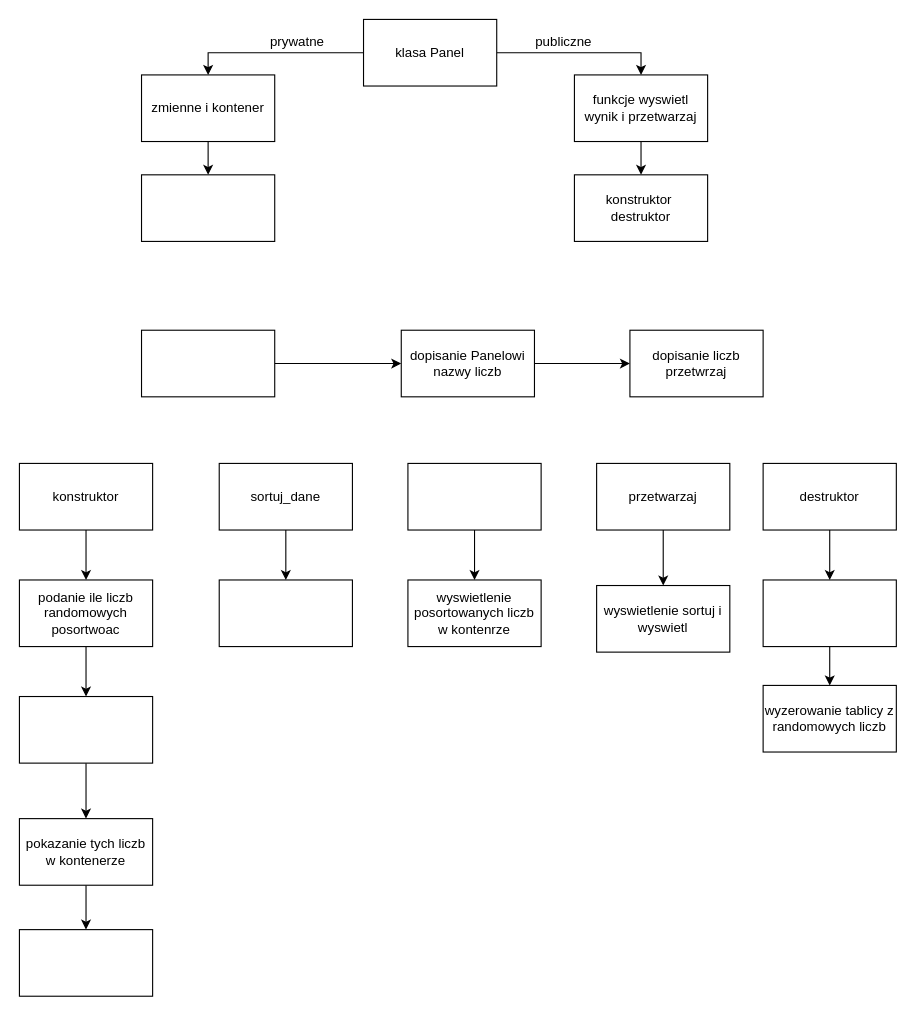
Some shapes in this 916 by 1016 pixel diagram are drawn without their labels. The shapes that lost their labels are listed below. From the top down, each one's centre as x and y in pixels, then its label:
At point 207,207: "funkcja sortujaca".
At point 207,363: "main".
At point 474,496: "wyswetl_wynik".
At point 285,613: "sortowanie liczb w tablicy".
At point 829,613: "komunikat o wyzerowaniu tablicy".
At point 85,729: "randomowe liczby i pushowanie do kontenera".
At point 85,962: "komunikat ze zostaly dodane do tablicy".
